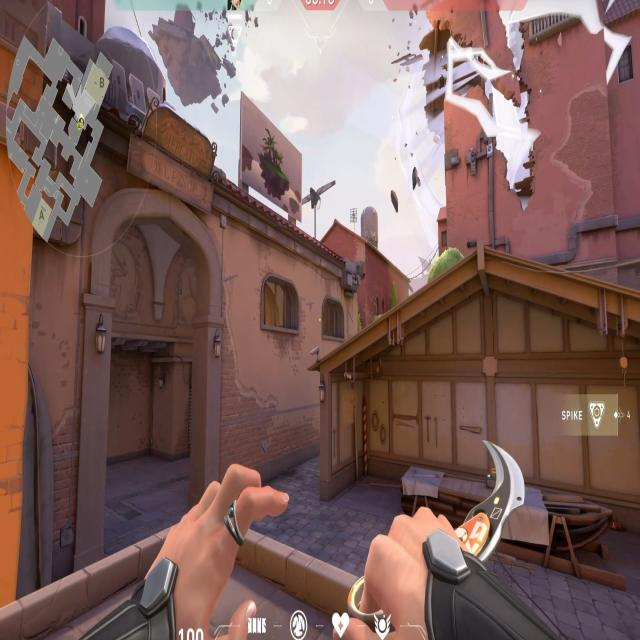B_Garage_Left: (320, 344, 440, 521)
B_Garage_Right: (574, 346, 640, 585)
Throwables: (258, 269, 300, 339), (320, 292, 347, 343)
